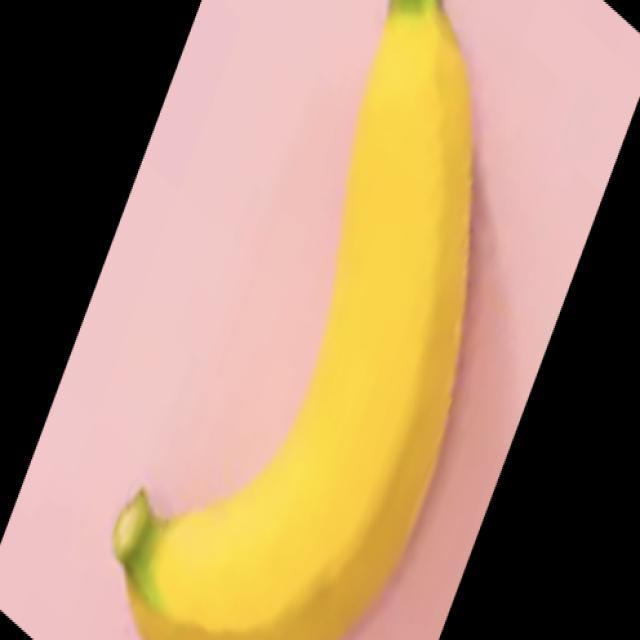Banana: (111, 0, 475, 639)
